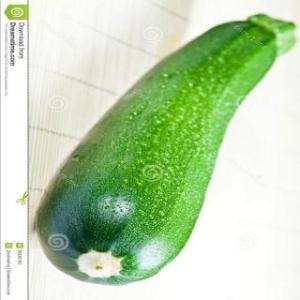zucchini: (32, 15, 300, 283)
